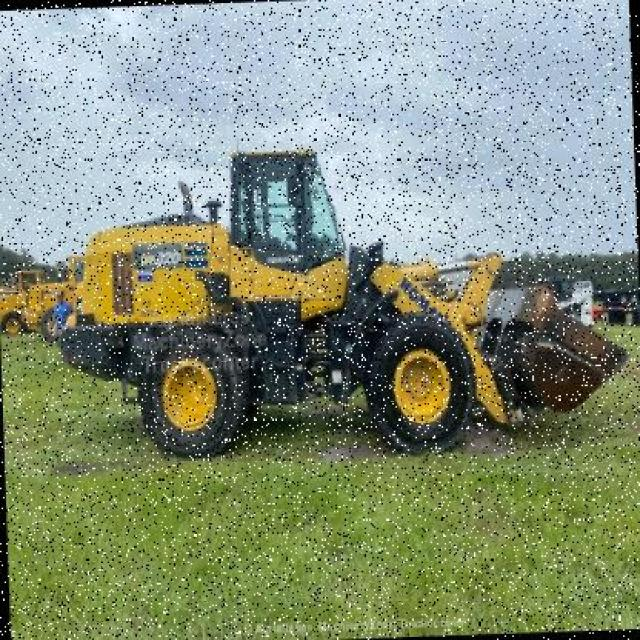buldozerpayloadergrader: (32, 126, 628, 466)
